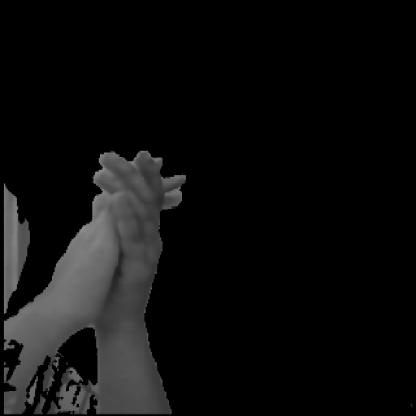clap: (39, 138, 195, 354)
